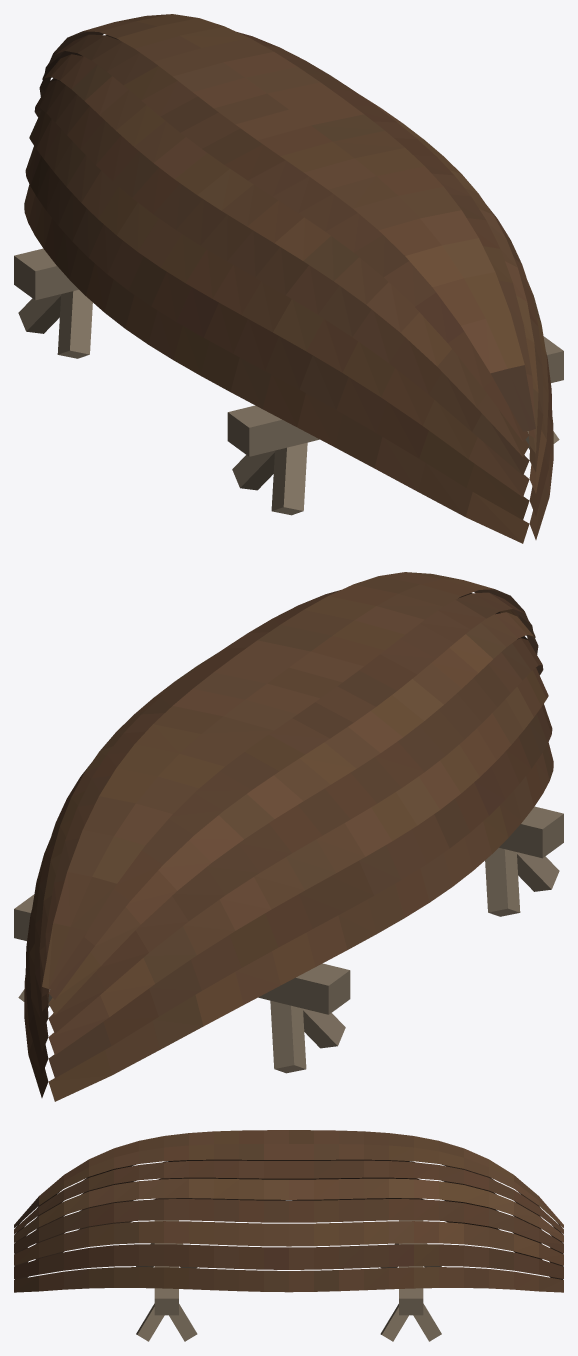
File: Prop_BoatUpturned.glb
3 renders of one model, top to bottom at view 1: azimuth 30°, elevation 25°; view 2: azimuth 150°, elevation 25°; view 3: azimuth 270°, elevation 25°, orthographic. The views are drawn at different scales.
Visible parts, largest first — view 1: Mat_Wood_69503b, Mat_Wood_4f3727, Mat_Wood_463224; view 2: Mat_Wood_69503b, Mat_Wood_4f3727, Mat_Wood_463224; view 3: Mat_Wood_69503b, Mat_Wood_4f3727, Mat_Wood_463224.
Part boxes in pixels (x1=…): Mat_Wood_69503b: x1=14, y1=14, x2=563, y2=543; Mat_Wood_4f3727: x1=24, y1=21, x2=552, y2=519; Mat_Wood_463224: x1=34, y1=31, x2=535, y2=431; Mat_Wood_69503b: x1=14, y1=572, x2=563, y2=1101; Mat_Wood_4f3727: x1=25, y1=590, x2=552, y2=1077; Mat_Wood_463224: x1=458, y1=589, x2=543, y2=675; Mat_Wood_69503b: x1=14, y1=1130, x2=563, y2=1341; Mat_Wood_4f3727: x1=14, y1=1141, x2=563, y2=1291; Mat_Wood_463224: x1=14, y1=1159, x2=563, y2=1279.
Size of the model in its own units: 3.54 by 2.95 by 9.
Materials: 1 (1 with a texture image).
